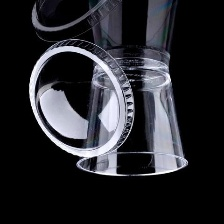glass: (71, 43, 191, 181)
